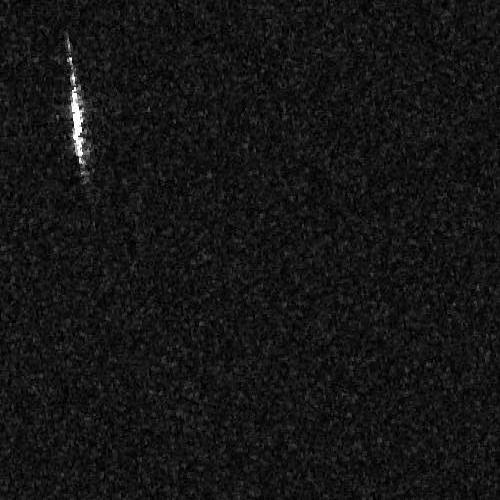ship: (67, 52, 86, 169)
